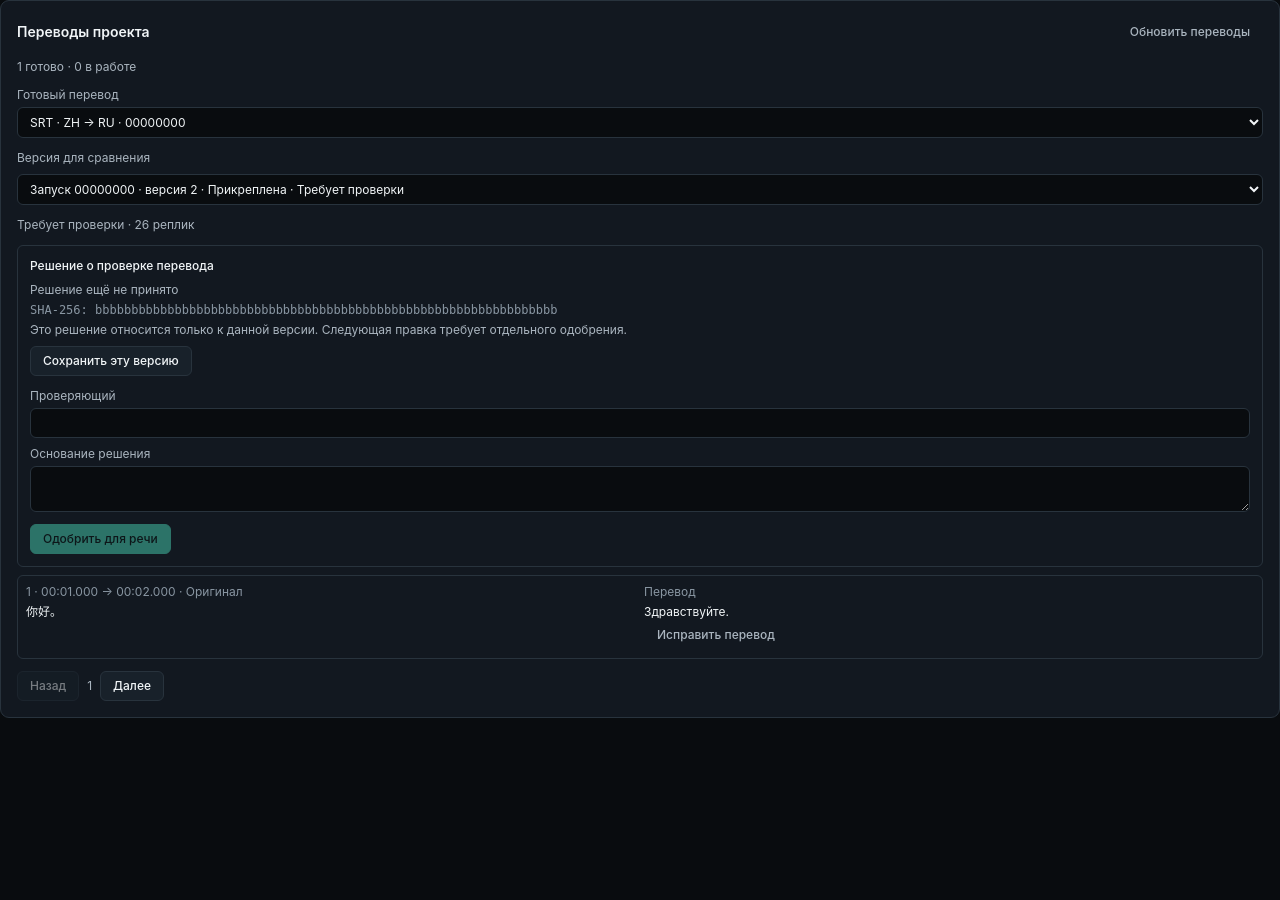
Test case: TranslationReview › previews history without attachment, then explicitly selects at the observed revision
Expected: the text "Здравствуйте." is shown, [644,604,729,619]
Select "Запуск 00000000 · версия 1 · Требует проверки" in the dropdown labelled "Версия для сравнения": (640, 190) [17,174,1263,205]
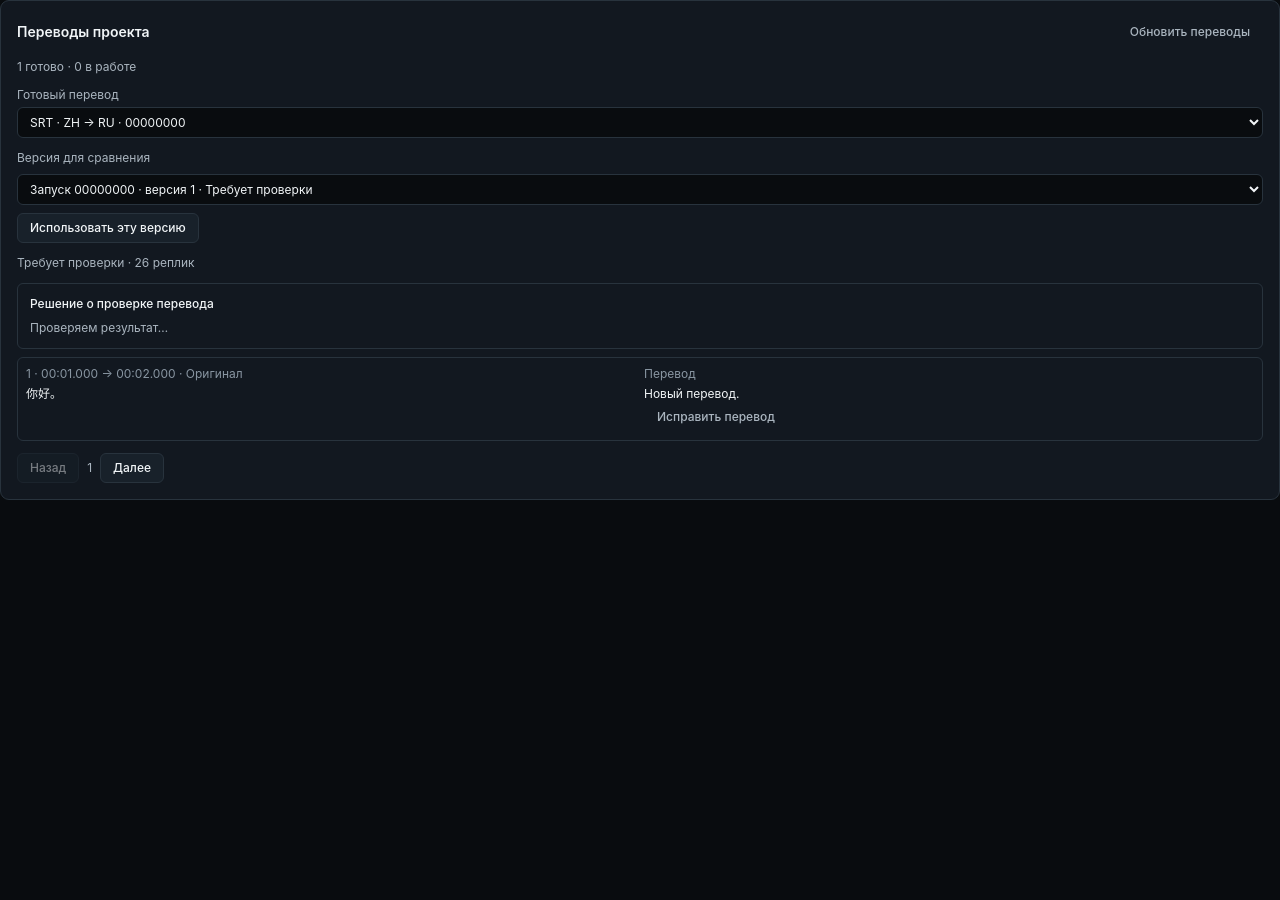
Expected: the button "Исправить перевод" is shown, [644,402,788,432]
Expected: the text "Новый перевод." is shown, [644,386,740,401]
Expected: the text "Здравствуйте." is gone
Click the button "Использовать эту версию": (108, 228) [17,213,199,243]
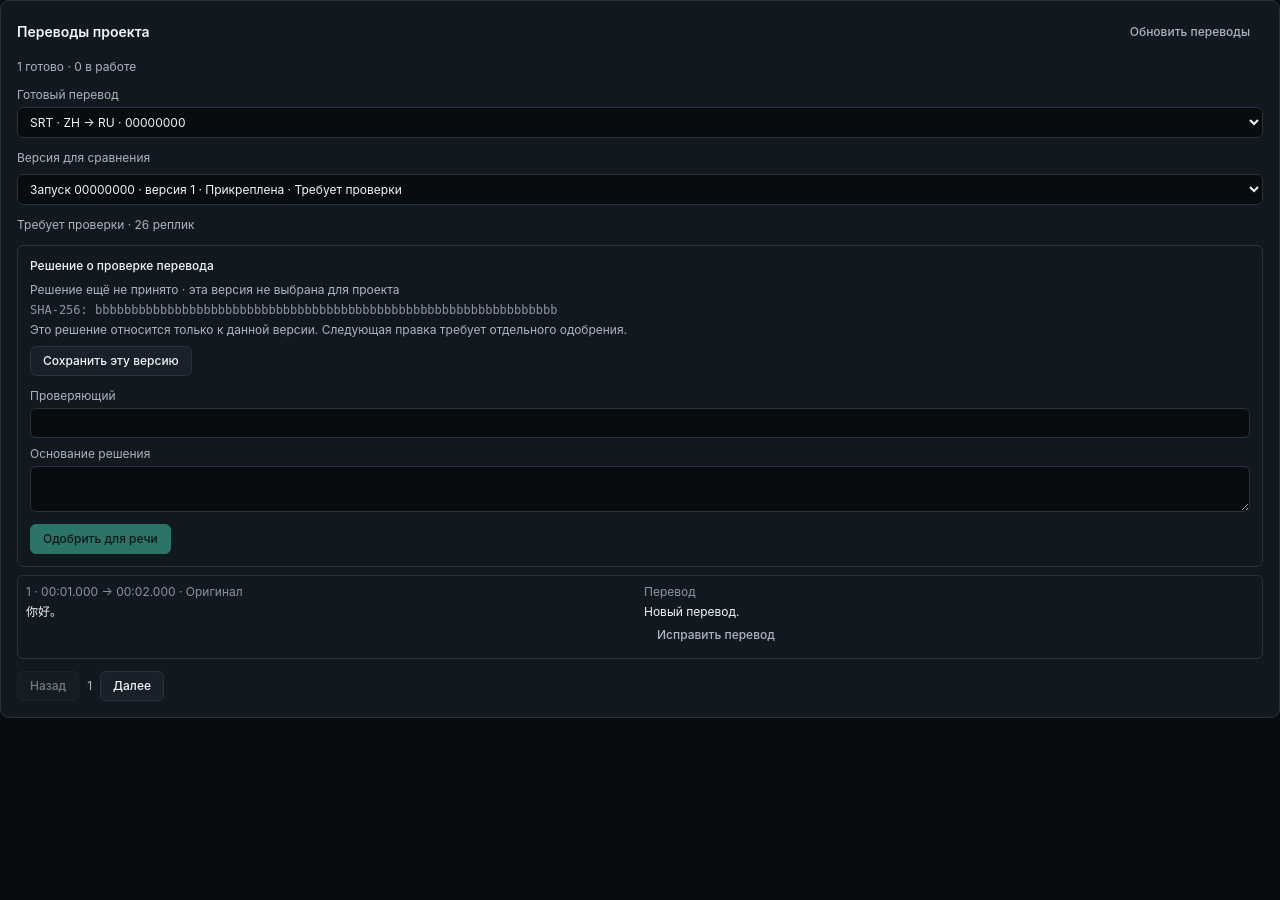
Expected: the button "Исправить перевод" is shown, [644,620,788,650]
Expected: the text "Новый перевод." is shown, [644,604,740,619]
Expected: the button "Использовать эту версию" is gone
